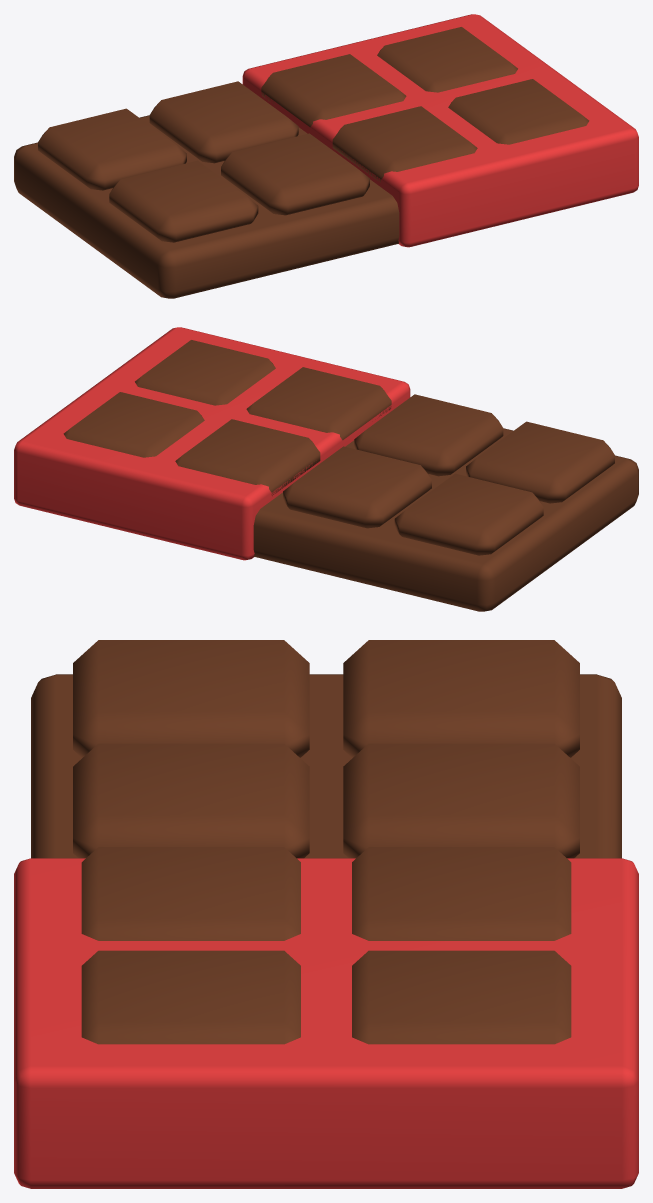
The model's file is ChocolateBar.fbx.
3 renders of one model, top to bottom at view 1: azimuth 30°, elevation 25°; view 2: azimuth 150°, elevation 25°; view 3: azimuth 270°, elevation 25°, orthographic. The views are drawn at different scales.
Visible parts, largest first — view 1: ChocolateBar; view 2: ChocolateBar; view 3: ChocolateBar.
Part boxes in pixels (bbox=[...]): ChocolateBar: bbox=[14, 14, 638, 298]; ChocolateBar: bbox=[14, 327, 638, 611]; ChocolateBar: bbox=[14, 640, 638, 1188].
Size of the model in its own units: 1.23 by 0.18 by 0.74.
Materials: 1 (1 with a texture image).
